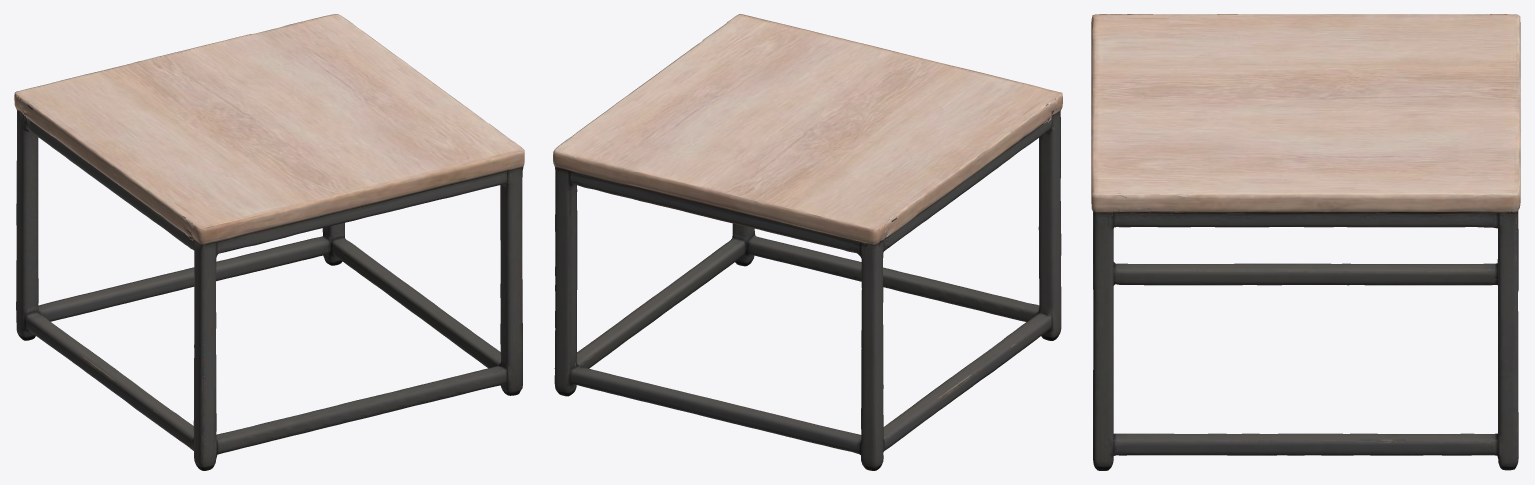
Rendered from desks1.glb.
3 views of the same model, side by side, from view 1: azimuth 30°, elevation 25°; view 2: azimuth 150°, elevation 25°; view 3: azimuth 270°, elevation 25° (orthographic). The views are drawn at different scales.
Visible parts, largest first — view 1: tripo_node_66d1b431; view 2: tripo_node_66d1b431; view 3: tripo_node_66d1b431.
Part boxes in pixels (bbox=[...]): tripo_node_66d1b431: bbox=[14, 14, 524, 470]; tripo_node_66d1b431: bbox=[553, 14, 1062, 470]; tripo_node_66d1b431: bbox=[1091, 14, 1520, 470].
Size of the model in its own units: 0.4887 by 0.3512 by 0.4896.
Materials: 1 (1 with a texture image).
